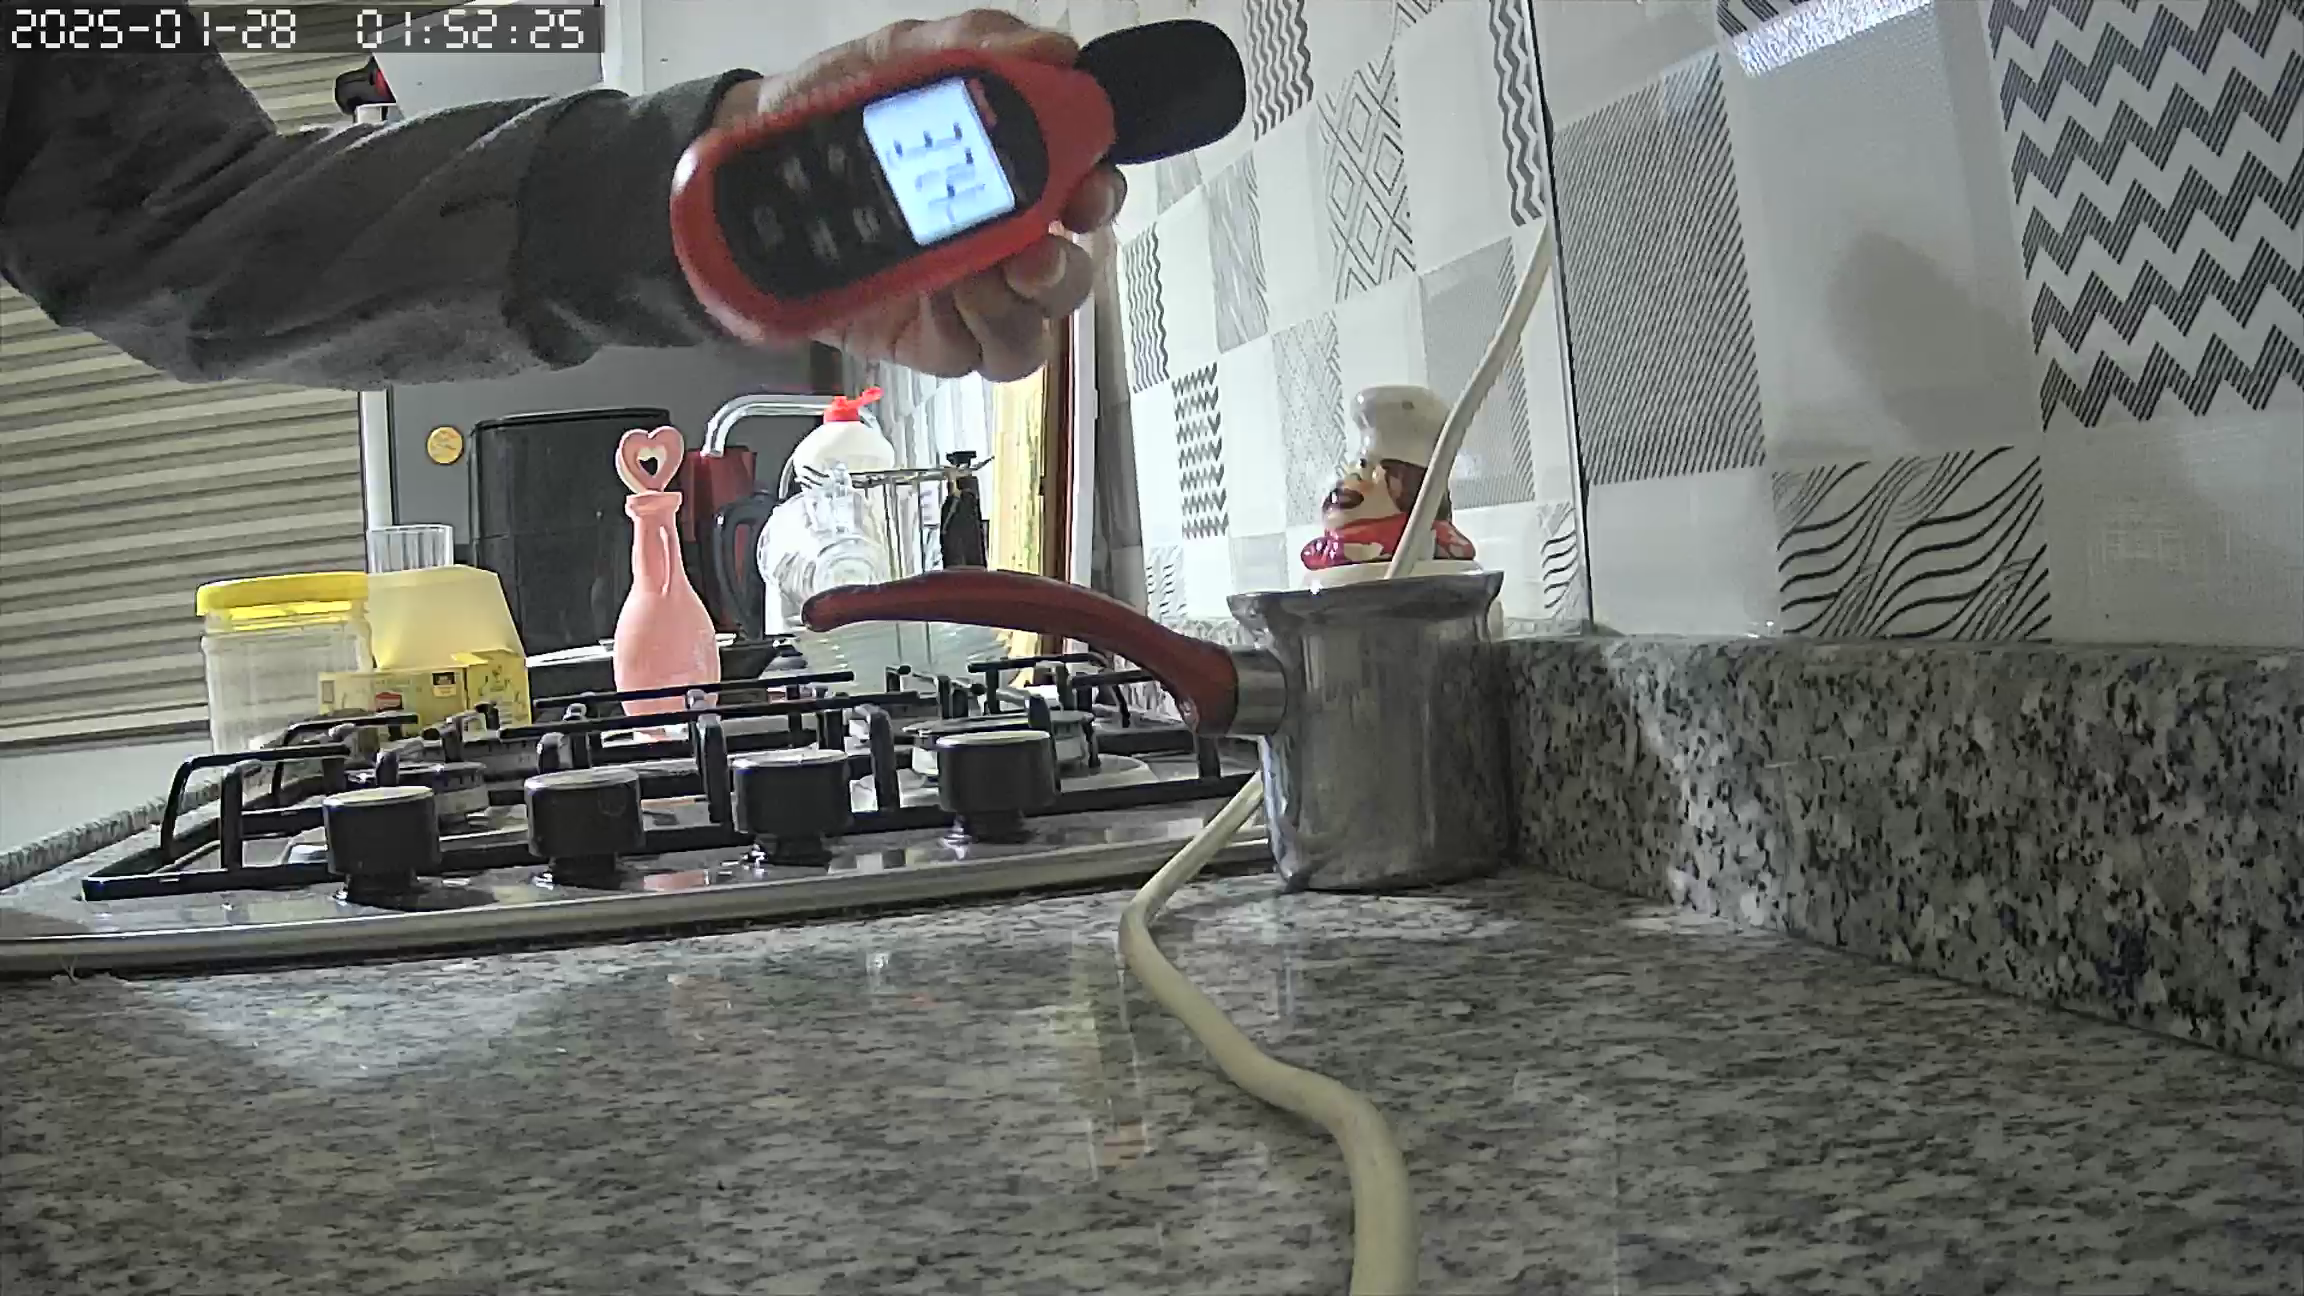screen: (862, 73, 1017, 248)
